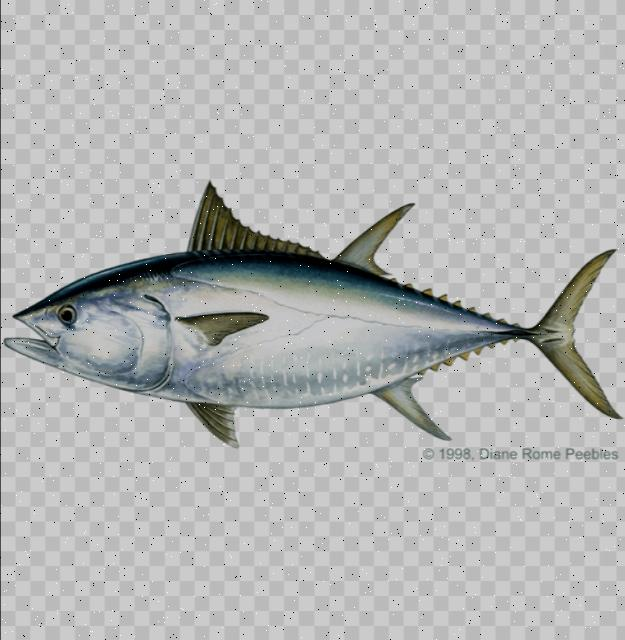Mulut: (5, 286, 69, 382)
Sirip Anal: (377, 366, 457, 449)
Sirip Dada: (172, 294, 280, 366)
Sirip Ekor: (535, 231, 625, 439)
Sirip Perut: (179, 384, 253, 468)
Sirip Punggung: (178, 164, 416, 292)
